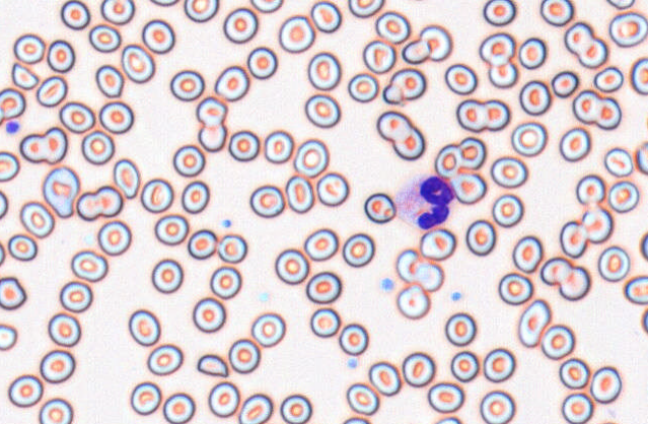GRAN: (392, 173, 457, 230)
PLT: (379, 276, 396, 293), (4, 121, 21, 134), (346, 356, 358, 369), (452, 291, 463, 302), (219, 218, 231, 228)
RBC: (42, 166, 79, 218), (19, 126, 67, 164), (76, 185, 123, 220), (383, 67, 426, 104), (278, 15, 315, 53), (293, 138, 329, 177), (608, 12, 647, 47), (19, 200, 54, 238), (307, 51, 341, 90), (121, 43, 154, 83), (510, 121, 547, 156), (304, 93, 340, 128), (214, 65, 249, 101), (274, 248, 309, 284), (223, 7, 258, 43), (589, 365, 622, 403), (70, 249, 108, 282), (540, 324, 575, 359), (250, 312, 285, 347), (479, 32, 515, 66), (396, 283, 430, 319), (39, 349, 75, 383), (192, 297, 226, 333), (401, 351, 435, 387), (419, 24, 452, 61), (490, 155, 527, 188), (597, 245, 630, 282), (128, 308, 160, 346), (303, 227, 338, 261), (47, 312, 81, 347), (249, 184, 284, 218), (97, 220, 131, 255), (98, 100, 133, 134), (7, 374, 43, 407), (305, 271, 341, 304), (140, 177, 173, 213), (479, 390, 515, 423), (449, 172, 486, 204), (419, 228, 456, 260), (427, 381, 464, 413), (511, 235, 542, 273), (362, 39, 396, 73), (141, 19, 175, 53), (498, 272, 533, 305), (375, 11, 410, 44), (81, 130, 114, 165), (368, 361, 401, 396), (558, 265, 590, 301), (518, 79, 550, 115), (559, 126, 591, 162), (59, 101, 95, 133), (207, 381, 239, 417), (228, 338, 260, 374), (147, 343, 183, 375), (112, 158, 140, 199), (581, 206, 612, 243), (465, 219, 496, 256), (392, 126, 425, 160), (316, 172, 349, 206), (376, 110, 411, 142), (169, 69, 204, 101), (342, 232, 374, 267), (151, 258, 183, 293), (483, 347, 515, 382), (559, 220, 588, 258), (285, 175, 314, 213), (59, 280, 92, 313), (172, 144, 205, 177), (346, 382, 379, 415), (491, 193, 523, 227), (444, 312, 476, 346), (209, 265, 241, 299), (455, 99, 487, 132), (444, 63, 477, 95), (154, 214, 188, 245), (130, 381, 161, 415), (238, 393, 273, 423), (563, 21, 594, 54), (608, 180, 639, 213), (310, 0, 341, 33), (162, 392, 195, 423), (363, 192, 396, 223), (246, 46, 277, 79), (539, 256, 573, 286), (263, 129, 293, 163), (572, 89, 601, 124), (195, 96, 227, 127), (561, 392, 593, 423), (558, 357, 589, 389), (36, 75, 67, 107), (13, 33, 45, 64), (228, 129, 259, 161), (279, 393, 312, 423), (338, 322, 368, 355), (95, 64, 124, 98), (46, 39, 75, 73), (434, 143, 462, 178), (413, 261, 444, 292), (347, 72, 379, 102), (88, 23, 121, 52), (575, 174, 605, 205), (309, 307, 340, 337), (450, 350, 479, 382), (181, 180, 209, 213), (38, 397, 73, 423), (603, 147, 633, 177), (187, 229, 217, 259), (217, 233, 247, 263), (60, 0, 90, 30), (578, 37, 607, 68), (518, 37, 546, 69), (458, 136, 485, 169), (595, 96, 621, 130), (0, 276, 26, 310), (100, 0, 135, 25), (540, 0, 573, 26), (482, 0, 515, 26), (197, 123, 226, 152), (7, 233, 37, 261), (483, 99, 510, 130), (487, 61, 517, 88), (0, 87, 25, 119), (550, 70, 578, 98), (593, 66, 623, 92), (183, 0, 218, 22), (401, 38, 430, 64), (624, 275, 647, 305), (347, 0, 384, 18), (630, 57, 647, 95), (0, 150, 20, 182), (0, 322, 17, 351), (250, 0, 283, 13), (635, 141, 647, 174), (606, 0, 635, 10), (0, 189, 8, 219), (639, 231, 647, 260), (640, 306, 648, 334), (341, 416, 371, 423), (149, 0, 179, 7), (433, 416, 462, 423), (0, 240, 5, 266)
Schistocyte: (518, 299, 552, 349), (395, 250, 421, 283), (10, 64, 41, 90), (197, 354, 229, 378)
